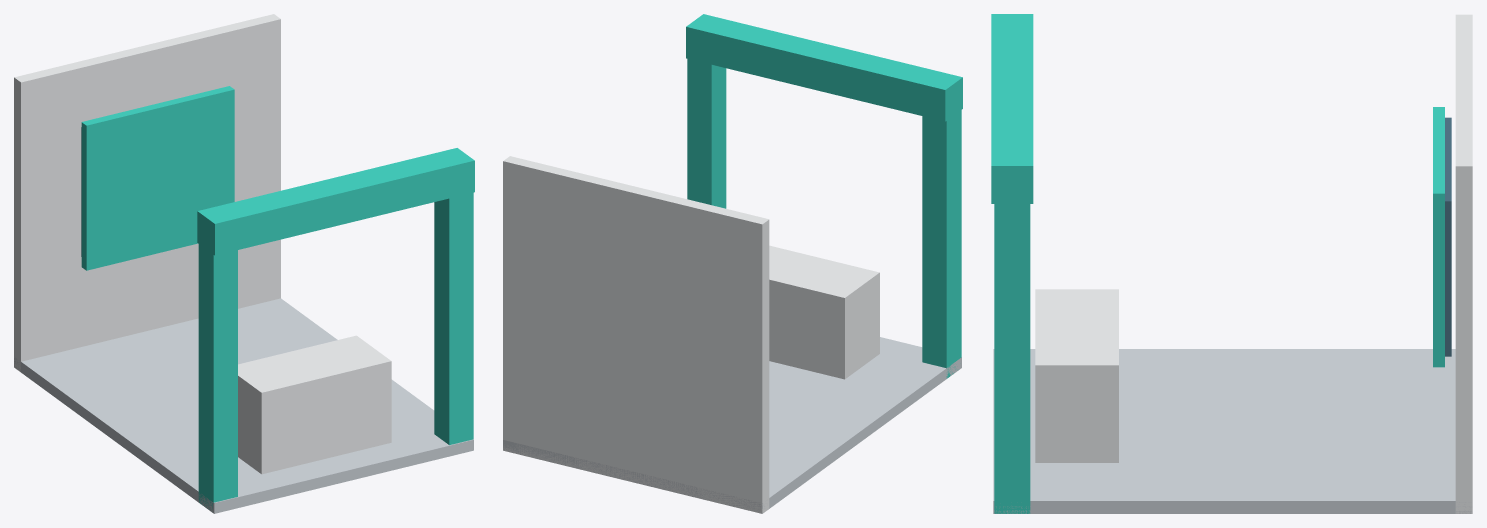
The picture shows the model from 3 angles, left to right: view 1: azimuth 30°, elevation 25°; view 2: azimuth 150°, elevation 25°; view 3: azimuth 270°, elevation 25°; orthographic projection. The views are drawn at different scales.
Visible parts, largest first — view 1: Exhibition Booth Concept; view 2: Exhibition Booth Concept; view 3: Exhibition Booth Concept.
Boxes of the visible parts, box(x1,y1,x2,y2) form: Exhibition Booth Concept: box(14, 14, 474, 513); Exhibition Booth Concept: box(503, 14, 962, 513); Exhibition Booth Concept: box(991, 14, 1472, 513).
Bounding box in the file's own units: 3 × 3.2 × 4.02.
